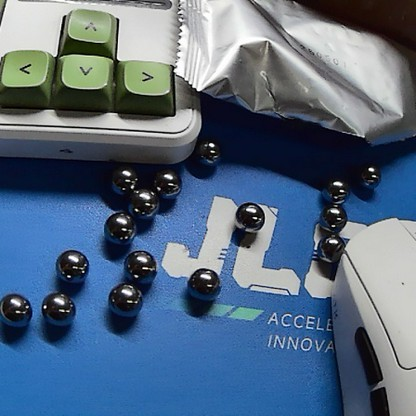ironball: (34, 291, 73, 337), (123, 187, 168, 224), (234, 200, 274, 241), (53, 242, 87, 286), (99, 214, 140, 250), (0, 293, 32, 337), (308, 234, 348, 269), (107, 279, 142, 318), (187, 266, 217, 308), (312, 197, 347, 230), (151, 167, 183, 202), (354, 158, 383, 191), (319, 173, 350, 203), (125, 250, 158, 278), (188, 140, 220, 166), (105, 170, 137, 196)
